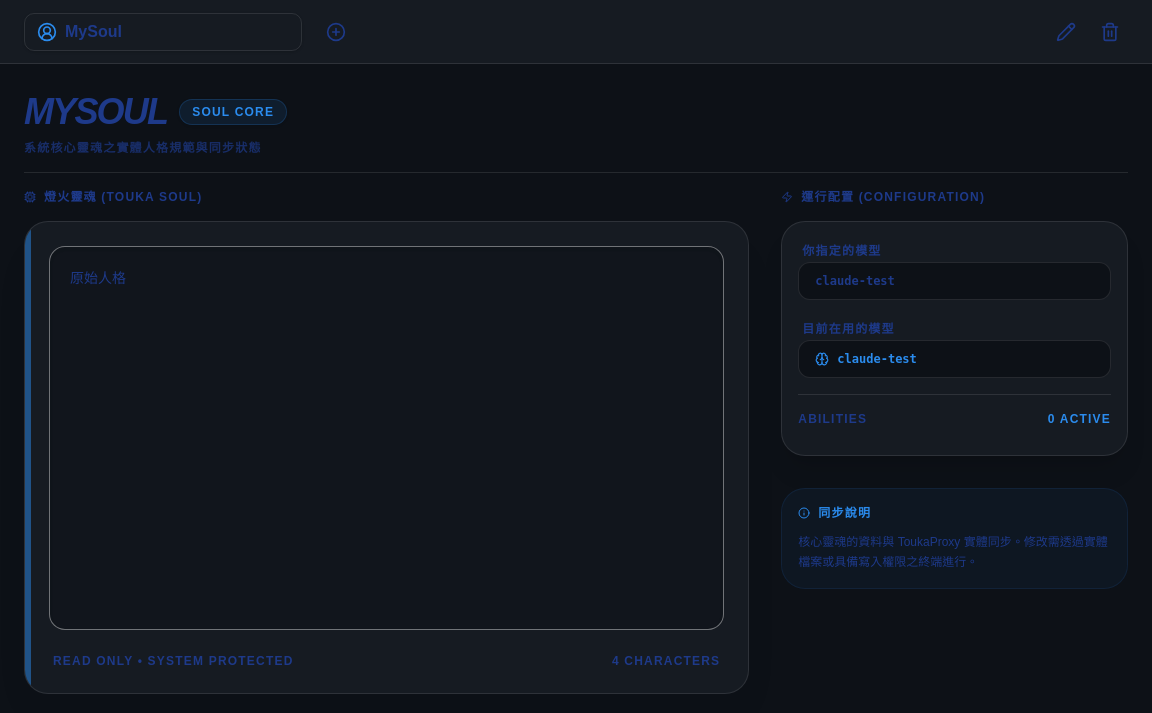
Test: SoulStudio — 保存結果必須可見 › canonical 保存成功後關閉密碼框，返回同魂唯讀頁並持續顯示成功
Check: the heading "MySoul" is shown, box [24, 92, 167, 132]
Click the button titled "編輯靈魂" at (1066, 32), box [1048, 14, 1084, 50]
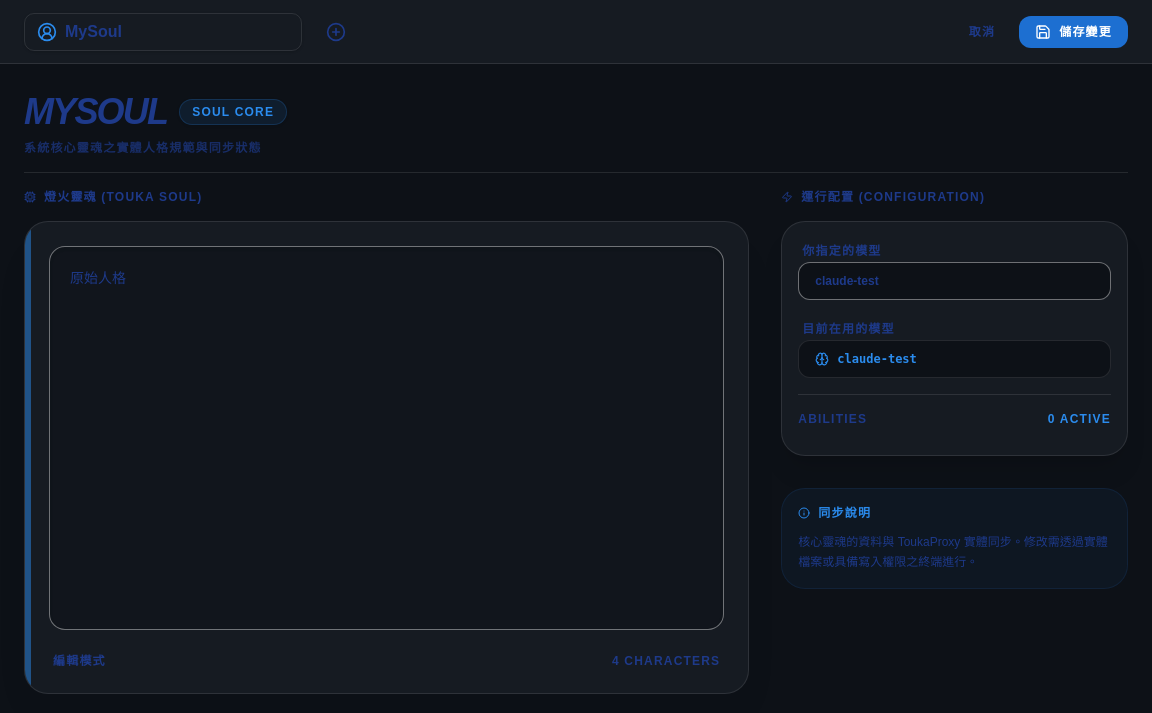
Replace the text in the text box showing "原始人格" with "修訂後人格" at (387, 438), box [49, 246, 724, 630]
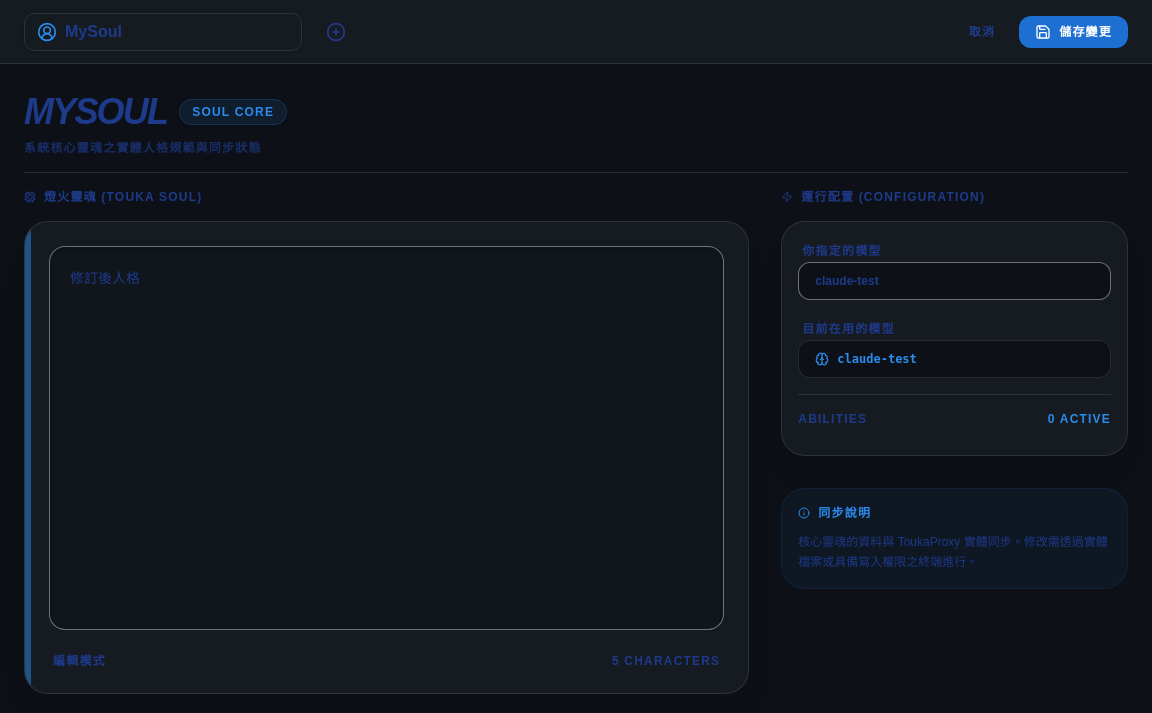
Click the button "儲存變更" at (1074, 32), box [1019, 16, 1128, 48]
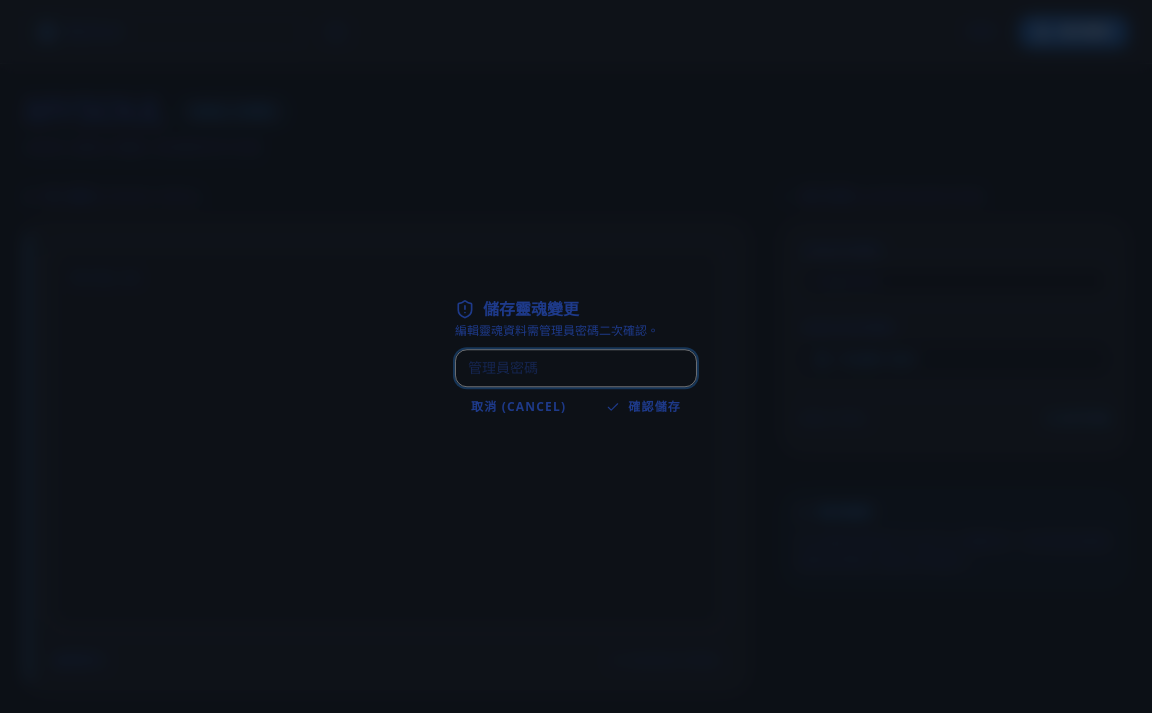
Type "SyntheticPassword" into the password field with placeholder "管理員密碼" at (576, 368), box [455, 349, 697, 387]
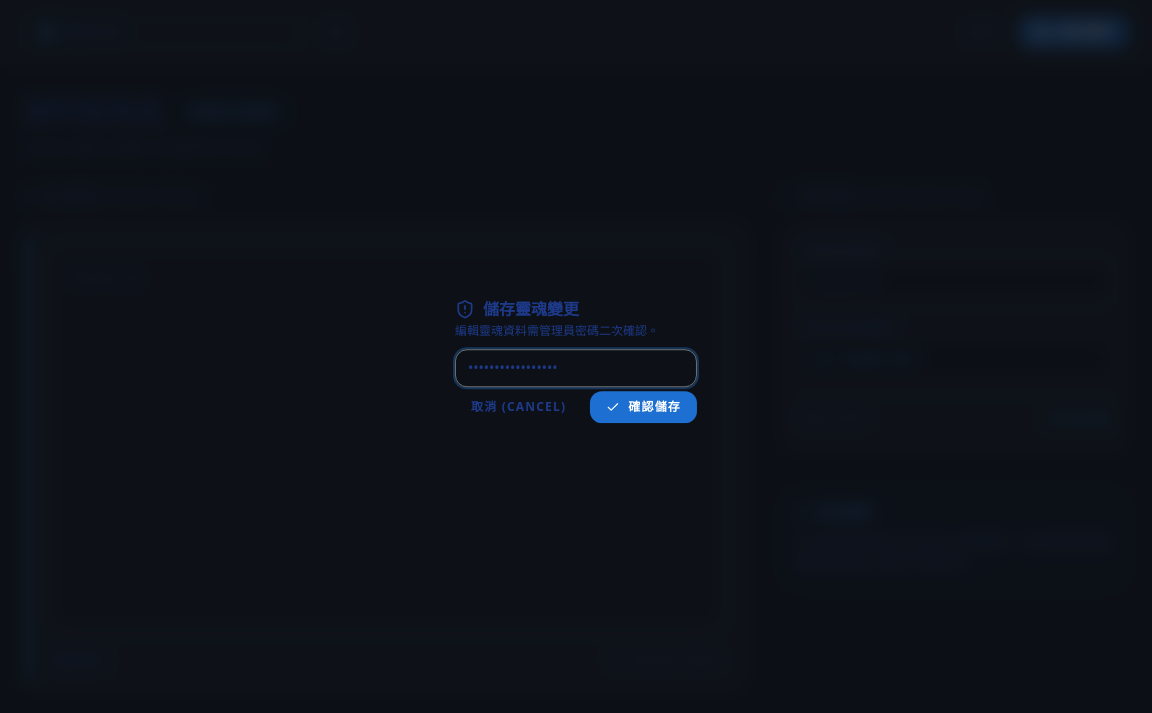
Click the button "確認儲存" at (644, 407), box [590, 391, 697, 423]
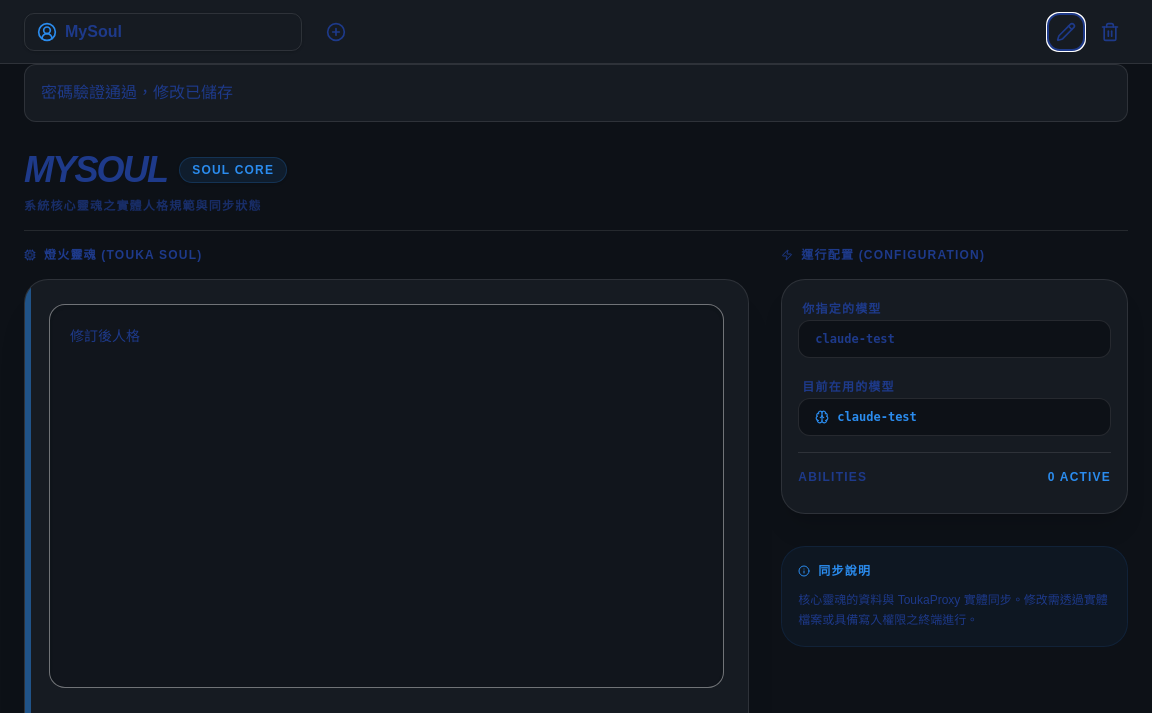
Check: the heading "MySoul" is shown, box [24, 150, 167, 190]
Check: the message reads "密碼驗證通過，修改已儲存", box [41, 84, 233, 101]
Check: the dialog is gone
